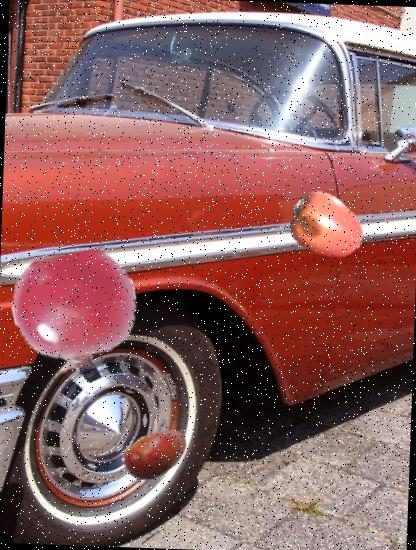Kaki: (287, 188, 367, 268)
Potato: (121, 418, 192, 490)
Redcurrant: (11, 247, 140, 376)
